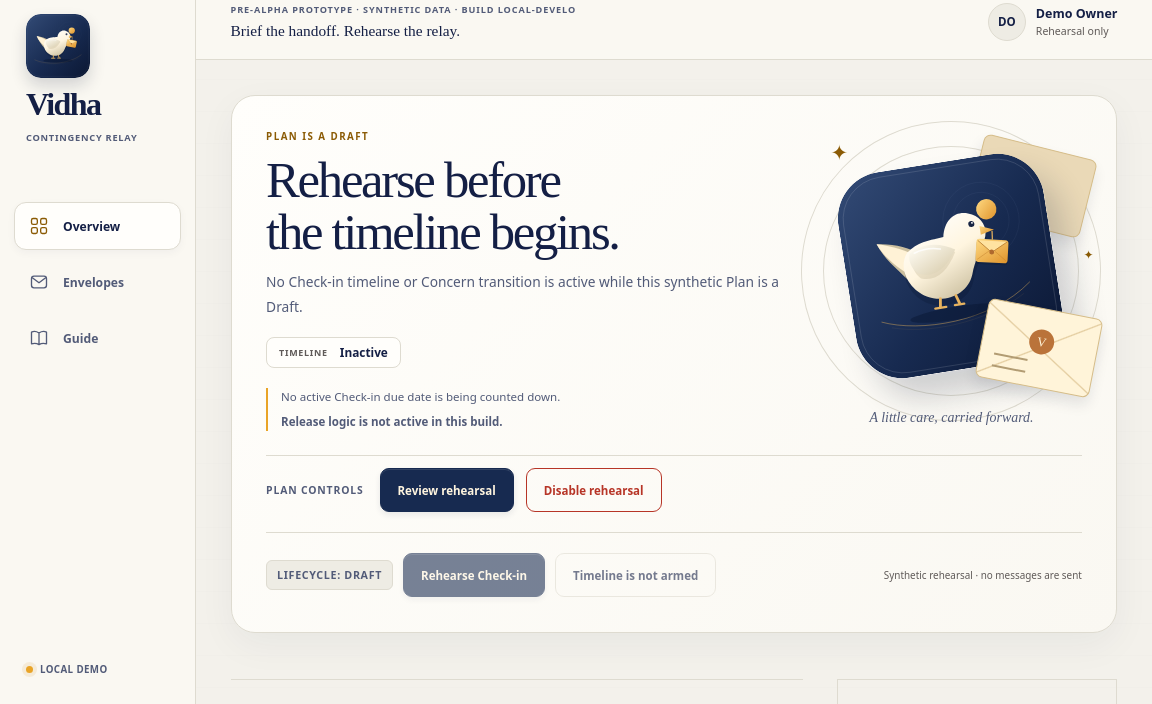
Test case: Vidha synthetic foundation app › requires an explicit confirmation before recording a Check-in
Click the button "Review rehearsal". click: [447, 490]
box: x1=380 y1=468 x2=514 y2=512
(page scrolled)
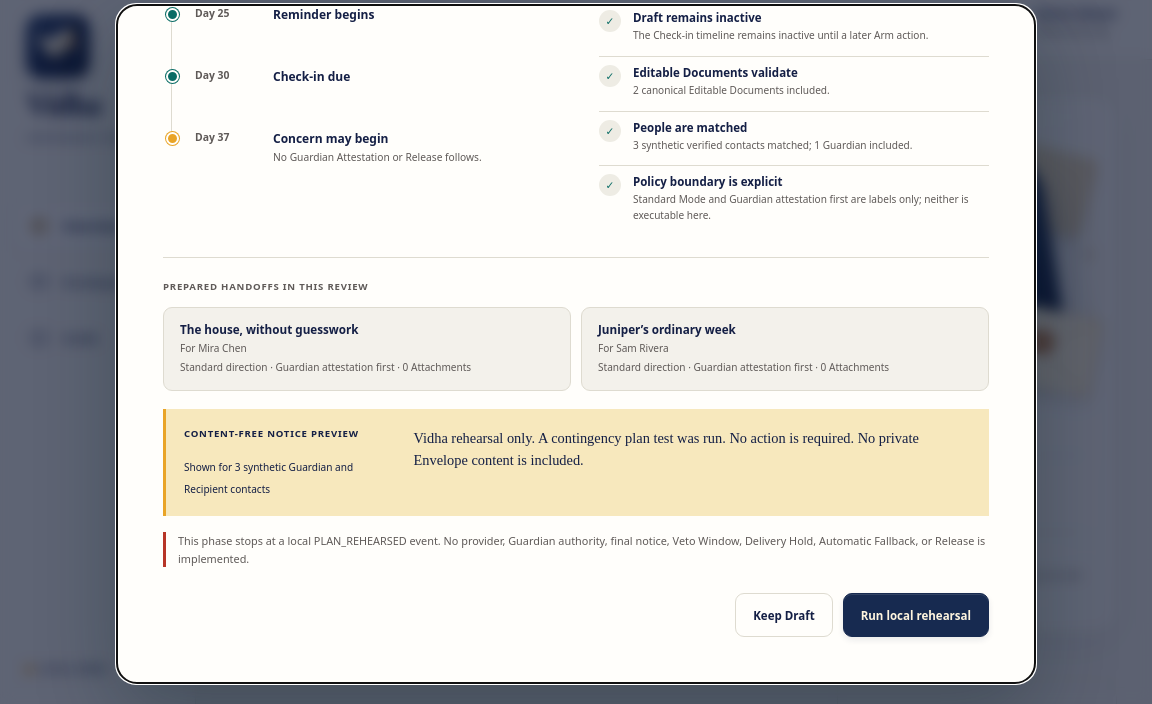
Click the button "Run local rehearsal". click: [916, 616]
box: x1=843 y1=594 x2=989 y2=638
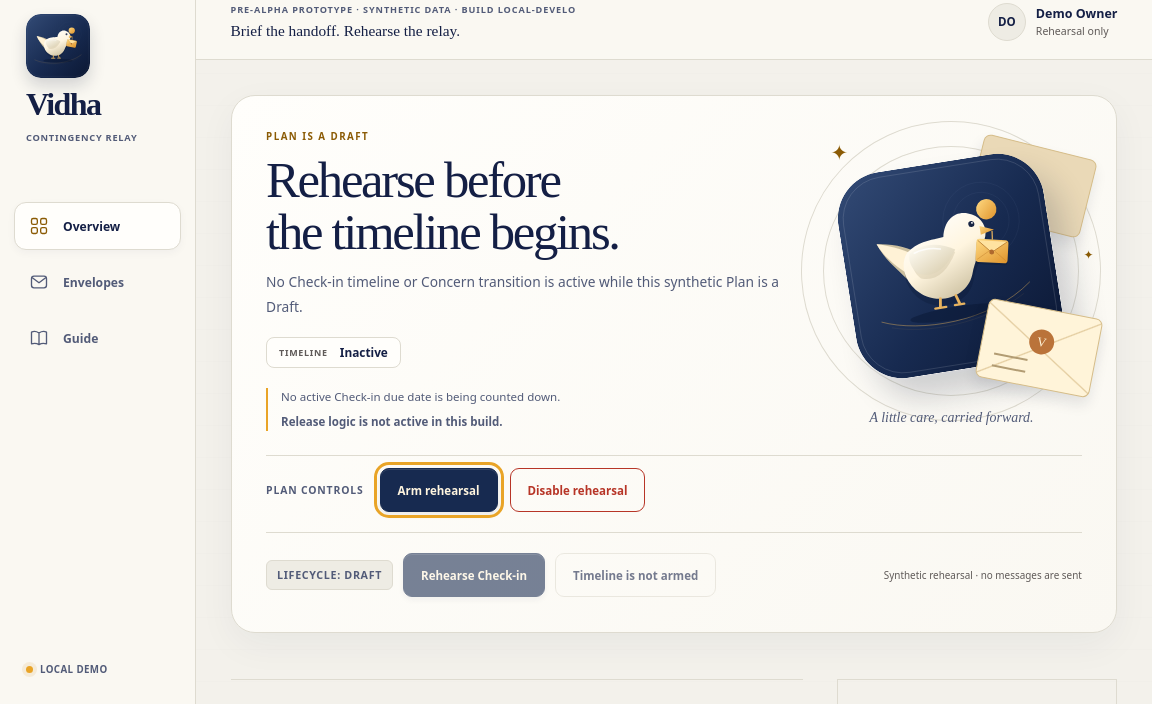
Click the button "Arm rehearsal". click: [438, 490]
box: x1=380 y1=468 x2=498 y2=512
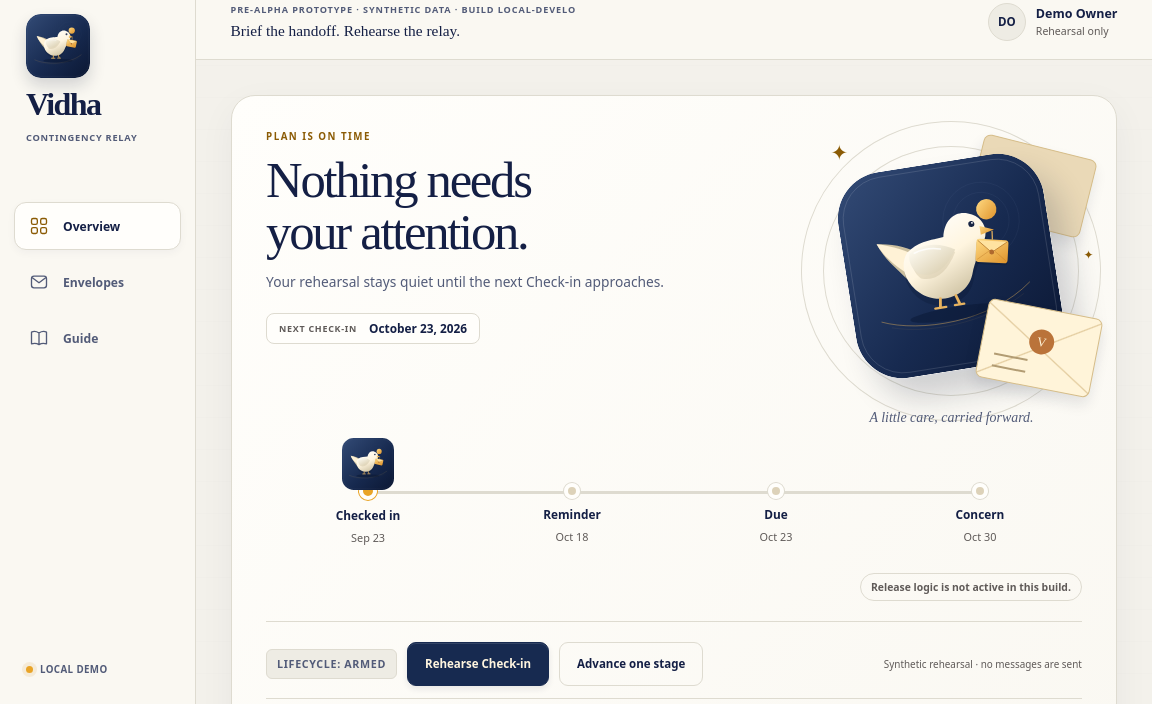
Now the text "Lifecycle: armed" is shown, box x1=266 y1=649 x2=397 y2=679
Click the button "Rehearse Check-in". click: [478, 664]
box: x1=407 y1=642 x2=549 y2=686
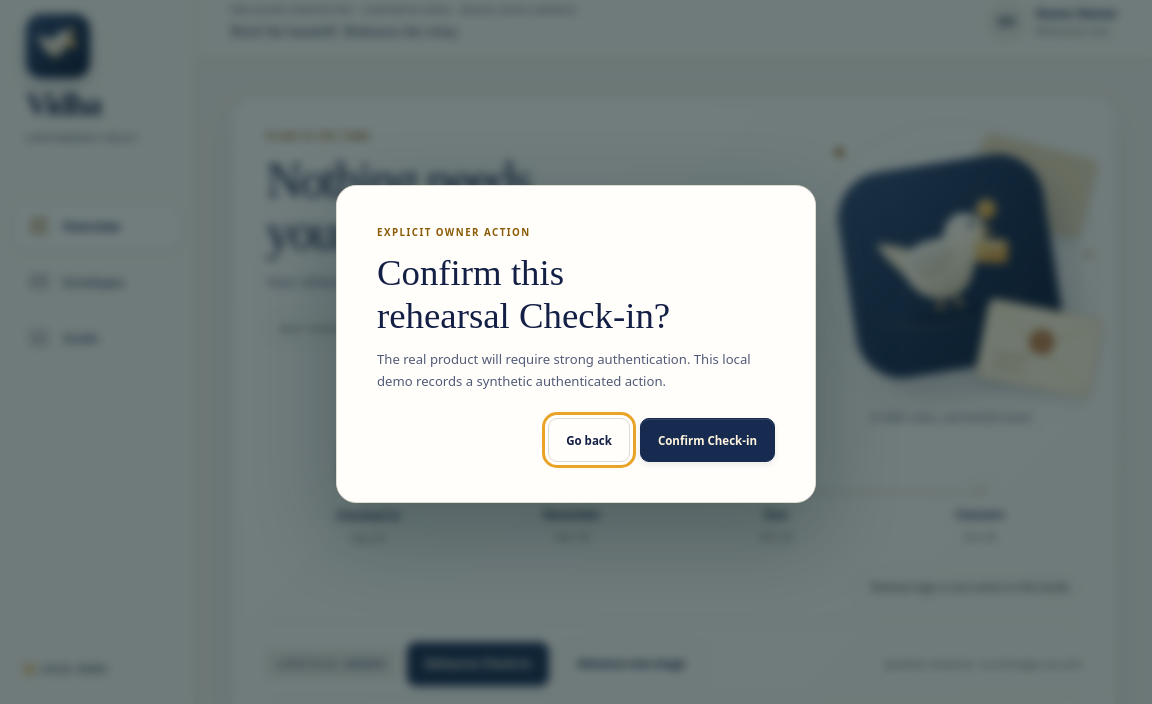
Now the dialog "Confirm this rehearsal Check-in?" is shown, box x1=336 y1=185 x2=816 y2=503
Click the button "Confirm Check-in". click: [707, 440]
box: x1=640 y1=418 x2=775 y2=462
(page scrolled)
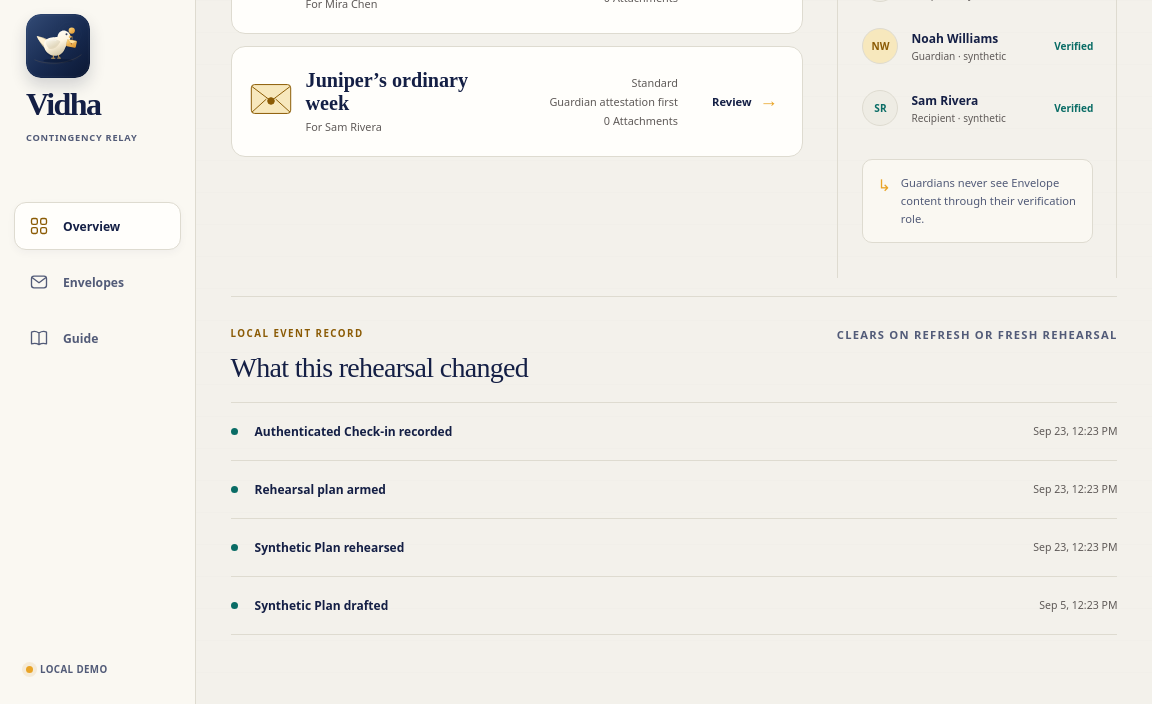
Now the dialog is gone
Now the text "Authenticated Check-in recorded" is shown, box x1=254 y1=423 x2=452 y2=440
